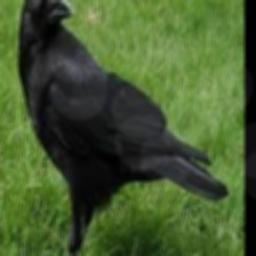Crow: (17, 0, 229, 256)
